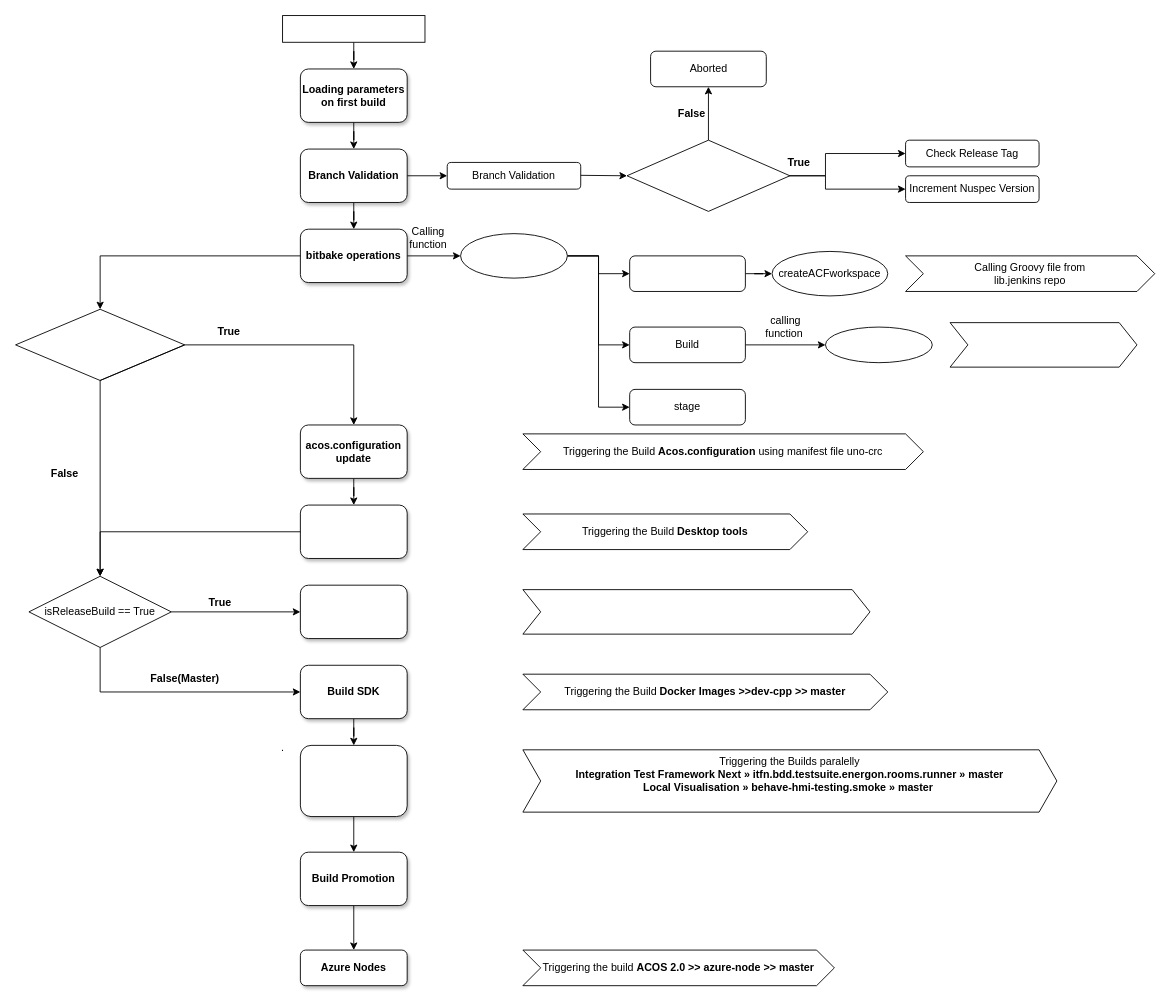
Image size: 1170x1007. Some labels were removed from this diagram. The centre of each missing label's shape, as x and y in pixels:
Apply Release Tag: the point at 354,613
Branch == release/* IsReleaseBuild==True: the point at 708,175
Build Desktoptools: the point at 354,533
buildDesktopTools == True: the point at 100,344
Create Workspace: the point at 687,273
Make: the point at 878,344
Meta CRC: the point at 353,28
Quality gates: the point at 354,782
ran make commands make file present in build repo: the point at 1043,344
run_bitbake: the point at 513,255
running the script sh "./scripts/tag_release.sh -yrv": the point at 696,611
